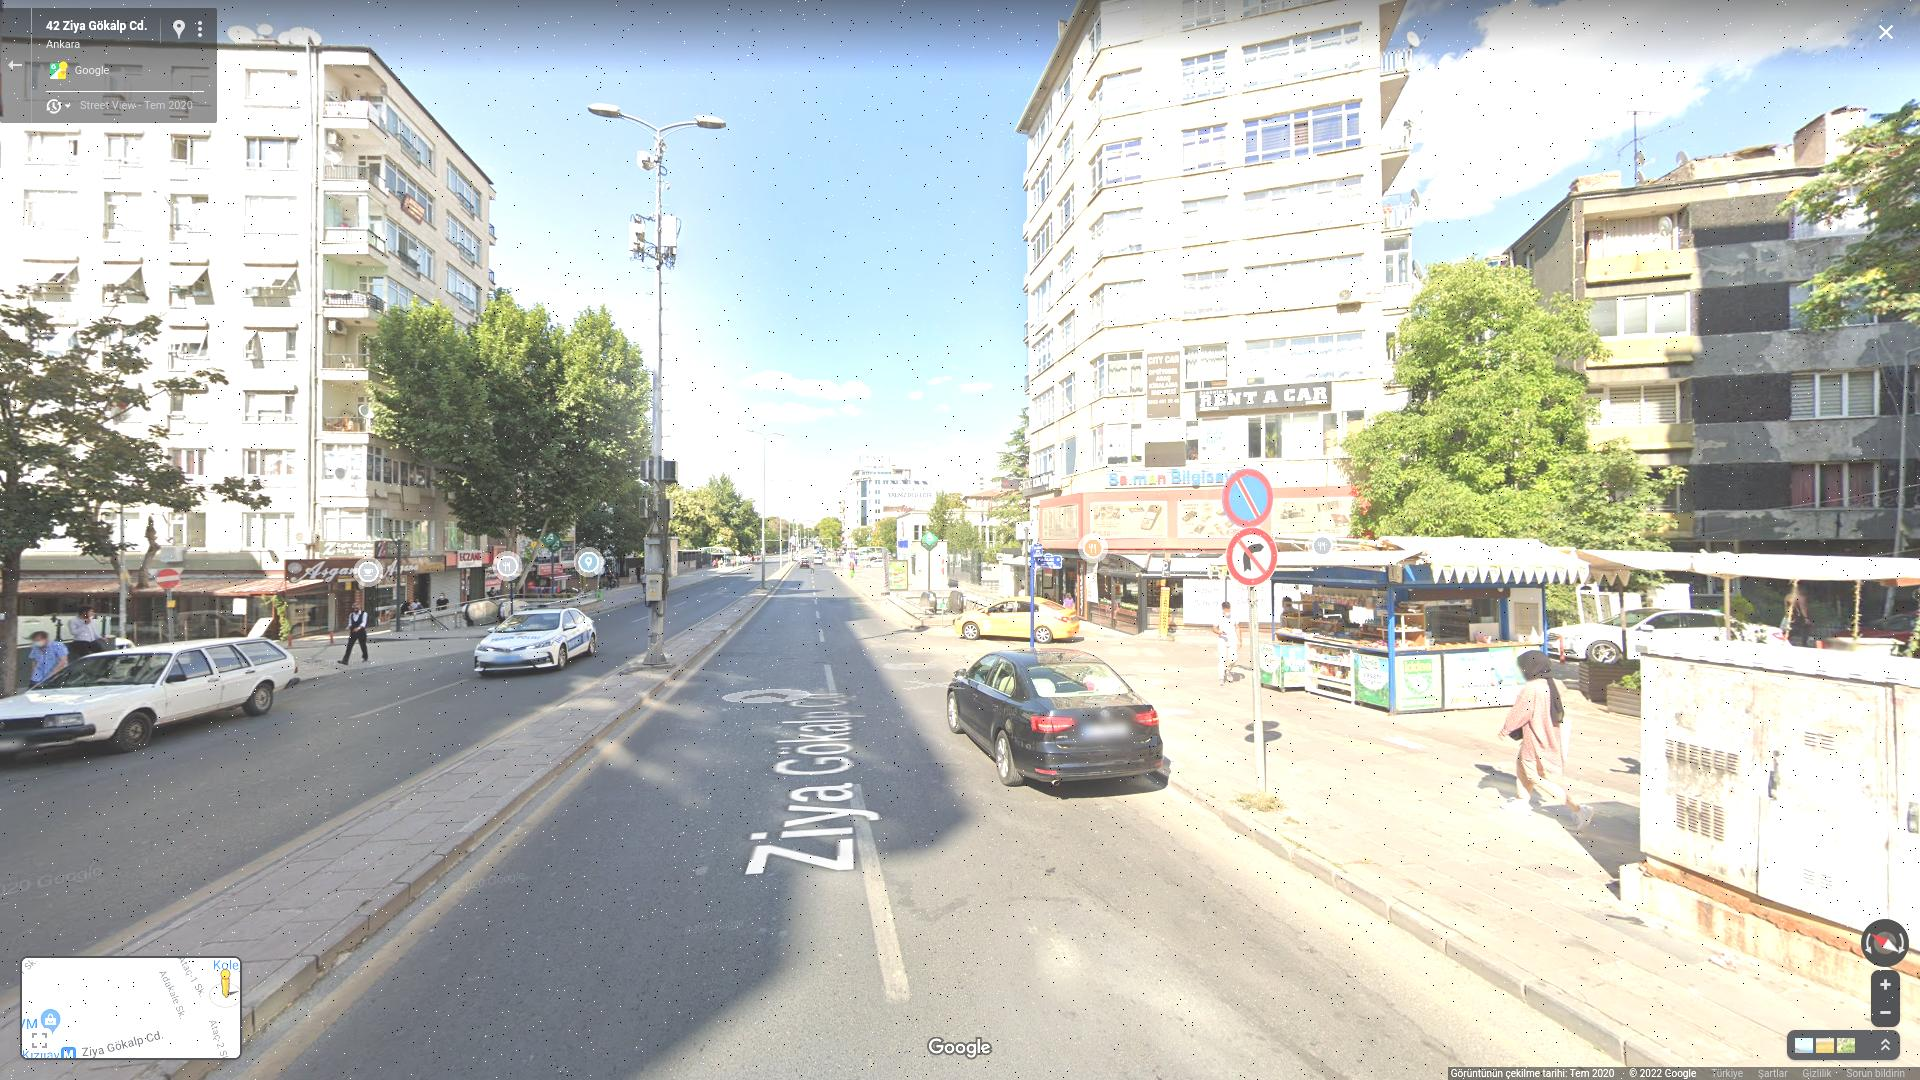nopark: (1224, 471, 1274, 524)
rightturnsareforbidden: (1228, 527, 1275, 579)
